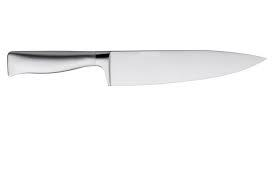Knife: (6, 49, 267, 86)
